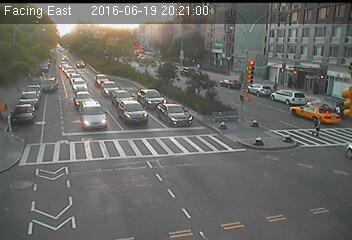neg: (242, 128, 272, 168), (236, 56, 264, 92), (1, 137, 22, 168), (214, 113, 234, 139), (172, 45, 189, 68), (281, 129, 297, 150)
pos: (308, 112, 329, 139), (333, 101, 346, 120), (269, 78, 282, 96)
